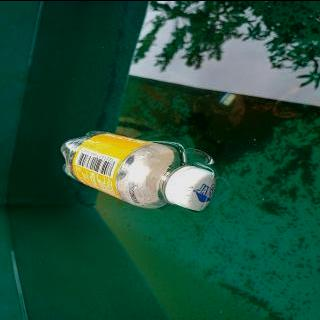bottle: (58, 128, 217, 212)
